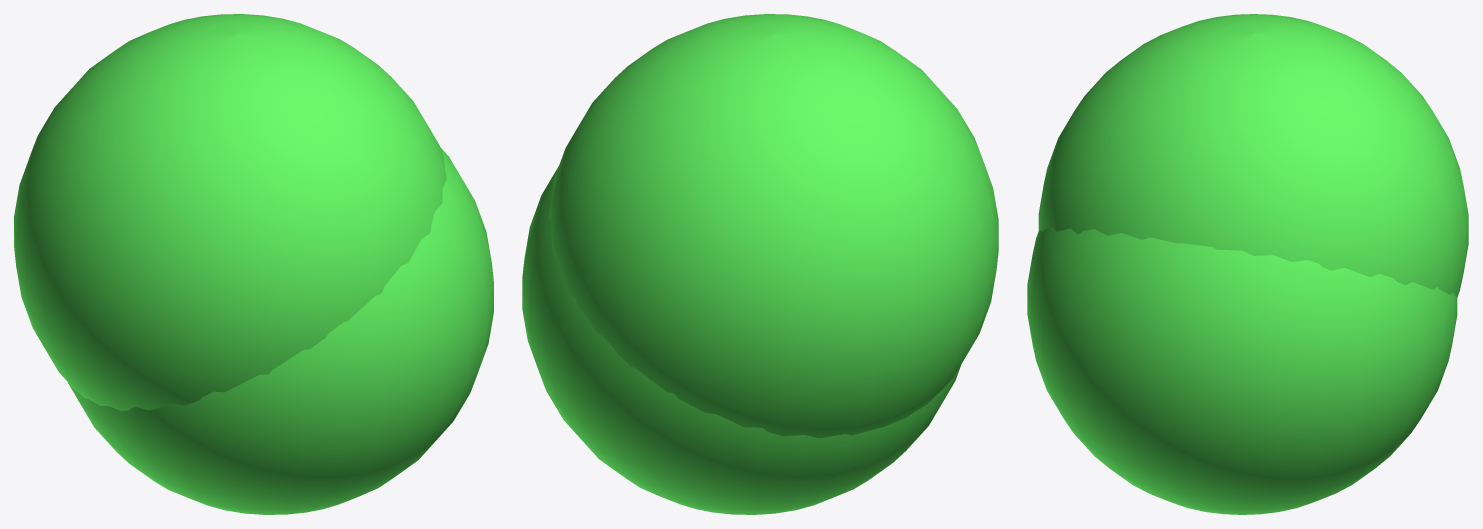
File: chlorine2.fbx
The picture shows the model from 3 angles, left to right: view 1: azimuth 30°, elevation 25°; view 2: azimuth 150°, elevation 25°; view 3: azimuth 270°, elevation 25°; orthographic projection. The views are drawn at different scales.
Visible parts, largest first — view 1: Chlorine_mesh|Chlorine_ball|Dupli|, Chlorine_ball; view 2: Chlorine_mesh|Chlorine_ball|Dupli|, Chlorine_ball; view 3: Chlorine_ball, Chlorine_mesh|Chlorine_ball|Dupli|.
Part boxes in pixels (bbox=[...]): Chlorine_mesh|Chlorine_ball|Dupli|: bbox=[14, 14, 446, 411]; Chlorine_ball: bbox=[68, 148, 493, 514]; Chlorine_mesh|Chlorine_ball|Dupli|: bbox=[549, 14, 998, 438]; Chlorine_ball: bbox=[522, 166, 960, 514]; Chlorine_ball: bbox=[1027, 227, 1457, 514]; Chlorine_mesh|Chlorine_ball|Dupli|: bbox=[1038, 14, 1468, 297].
Bounding box in the file's own units: 213 × 226 × 203.
